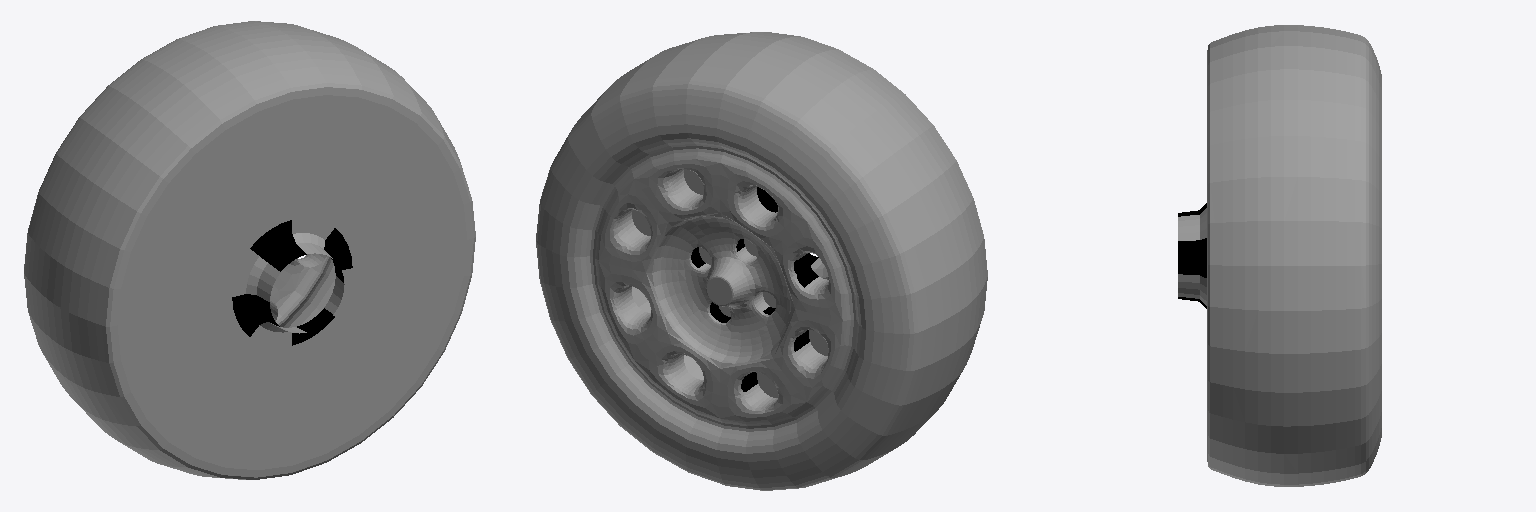
The model's file is llantadef1.obj.
3 renders of one model, left to right at view 1: azimuth 30°, elevation 25°; view 2: azimuth 150°, elevation 25°; view 3: azimuth 270°, elevation 25°, orthographic.
Parts seen in each view (by area): view 1: Cube_001_Malla; view 2: Cube_001_Malla; view 3: Cube_001_Malla.
Boxes of the visible parts, x1,y1,x2,y2 form: Cube_001_Malla: [24, 21, 475, 479]; Cube_001_Malla: [536, 32, 987, 490]; Cube_001_Malla: [1178, 25, 1381, 486].
Size of the model in its own units: 3.02 by 3.02 by 1.33.